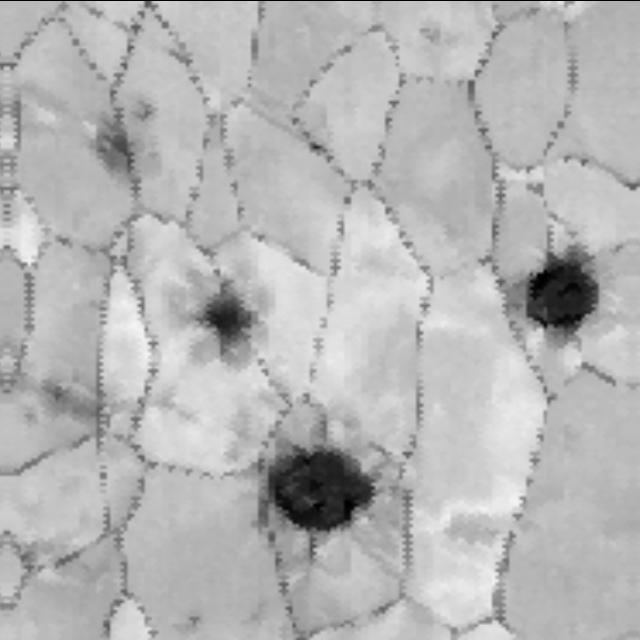good_void: (242, 413, 394, 561), (491, 227, 625, 354), (77, 115, 165, 196), (187, 277, 270, 360), (21, 378, 107, 428), (163, 602, 207, 640), (130, 99, 153, 122)
